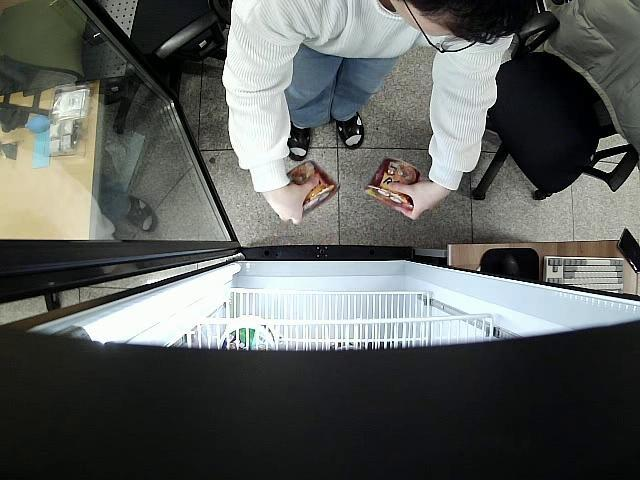05_nuguri_L: (362, 157, 421, 213), (288, 158, 339, 215)
